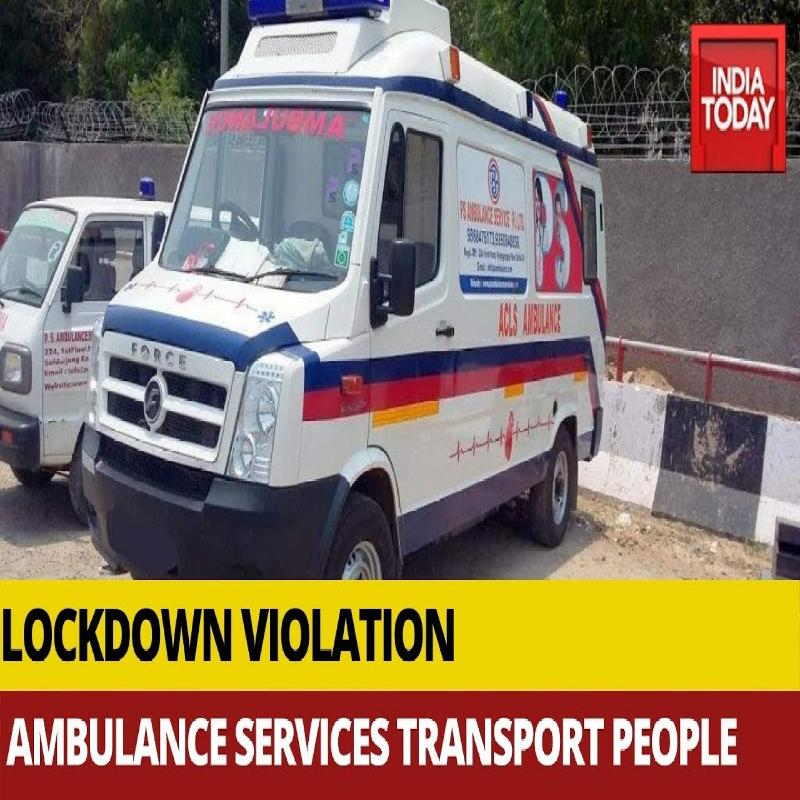ambulance: (69, 0, 612, 582)
